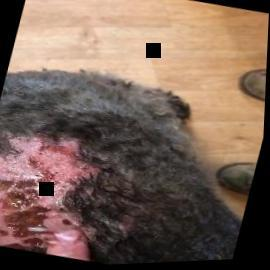skin_lesions: (0, 113, 125, 266)
